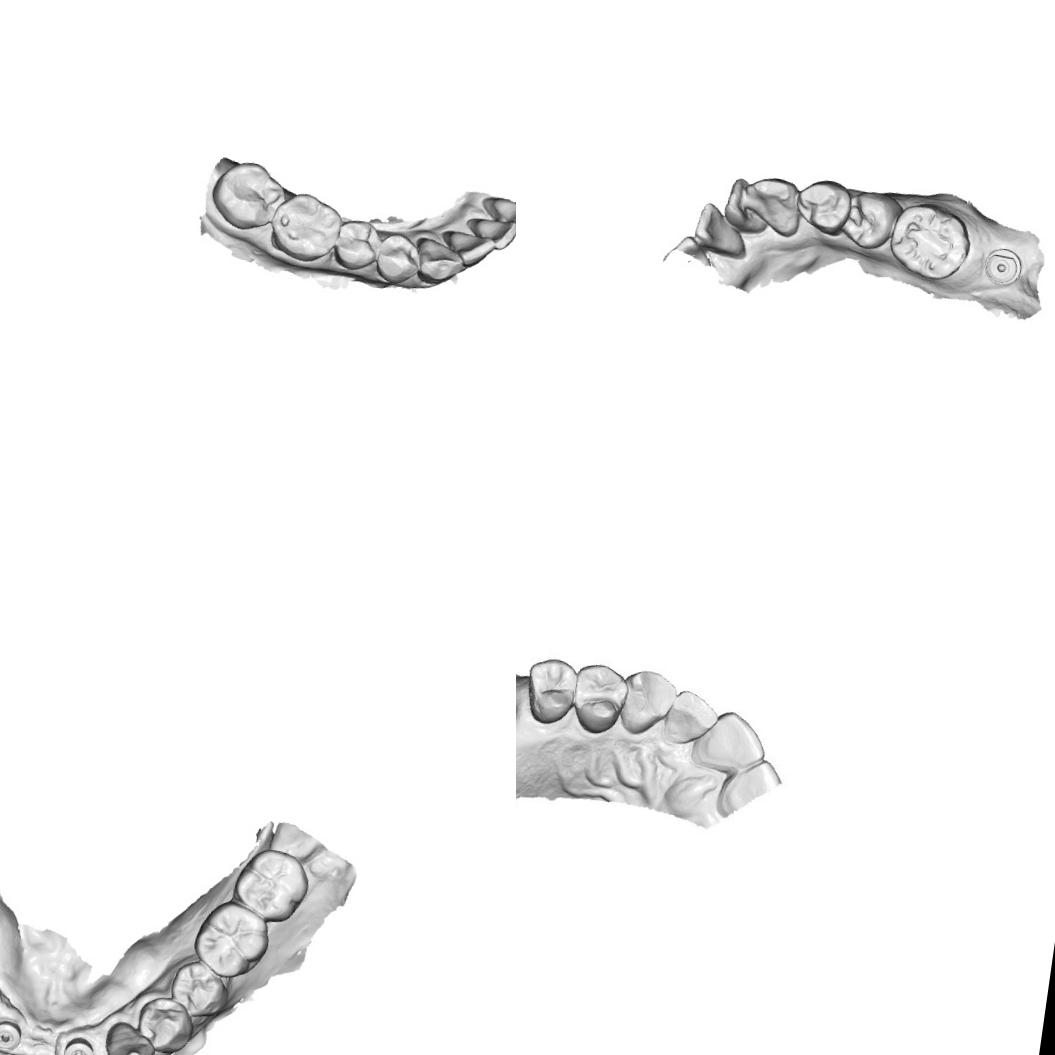canine: (616, 664, 678, 740), (738, 172, 808, 239), (410, 234, 470, 289), (97, 1017, 161, 1055)
implant: (982, 243, 1026, 288)
implant_minus: (0, 1013, 27, 1055)
implant_plus: (56, 1034, 100, 1055)
incisor: (687, 702, 771, 778), (658, 684, 723, 750), (689, 198, 755, 262), (718, 173, 779, 239), (436, 226, 498, 270), (463, 212, 516, 252), (478, 192, 516, 230)
molar: (882, 196, 977, 288), (189, 896, 276, 985), (230, 844, 314, 927), (206, 156, 291, 237), (265, 188, 346, 266)
premolar: (518, 653, 586, 732), (165, 953, 236, 1024), (836, 184, 904, 254), (568, 660, 629, 737), (790, 172, 856, 239), (131, 992, 198, 1055), (330, 216, 384, 274), (372, 230, 424, 288)
